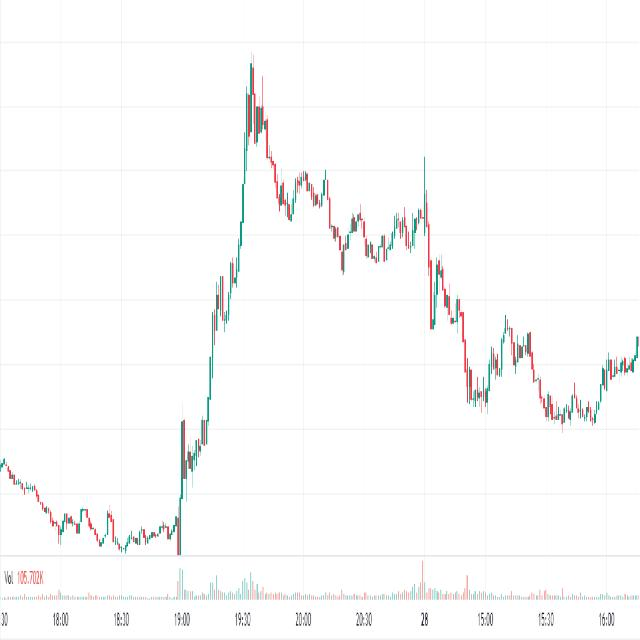Head-Shoulders: (197, 41, 348, 403)
